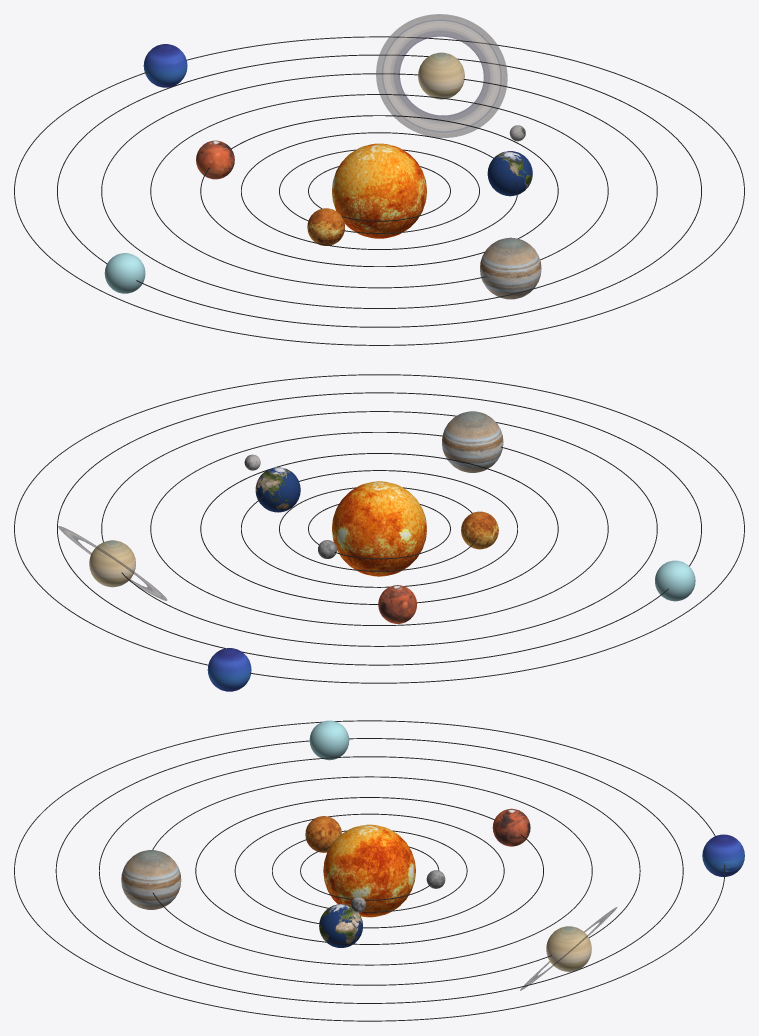
File: сонячнасистема.glb
3 views of the same model, one above another, from view 1: azimuth 30°, elevation 25°; view 2: azimuth 150°, elevation 25°; view 3: azimuth 270°, elevation 25° (orthographic). The views are drawn at different scales.
Parts seen in each view (by area): view 1: Mesh (7), Sphere, Sphere.006, BezierCircle.007, BezierCircle.006, BezierCircle.005, Sphere.007, Sphere.004, BezierCircle.004, Sphere.009, Sphere.008, Sphere.003 (+4 smaller); view 2: Sphere, Sphere.006, BezierCircle.007, BezierCircle.006, BezierCircle.005, Sphere.007, Sphere.004, BezierCircle.004, Sphere.009, Sphere.008, BezierCircle.003, Sphere.003 (+4 smaller); view 3: Sphere, Sphere.006, BezierCircle.007, BezierCircle.006, BezierCircle.005, Sphere.007, BezierCircle.004, Sphere.004, Sphere.009, Sphere.008, BezierCircle.003, Sphere.003 (+3 smaller).
Boxes of the visible parts, <box> form: Mesh (7): <box>376,14,507,137</box>; Sphere: <box>332,143,426,238</box>; Sphere.006: <box>480,237,541,299</box>; BezierCircle.007: <box>14,36,744,345</box>; BezierCircle.006: <box>57,54,701,327</box>; BezierCircle.005: <box>101,73,657,308</box>; Sphere.007: <box>418,52,464,99</box>; Sphere.004: <box>487,151,532,196</box>; BezierCircle.004: <box>150,94,608,288</box>; Sphere.009: <box>143,44,187,87</box>; Sphere.008: <box>104,253,145,293</box>; Sphere.003: <box>196,140,234,179</box>; Sphere: <box>332,481,426,576</box>; Sphere.006: <box>442,411,503,472</box>; BezierCircle.007: <box>14,374,744,683</box>; BezierCircle.006: <box>57,392,701,665</box>; BezierCircle.005: <box>101,411,657,646</box>; Sphere.007: <box>89,540,135,587</box>; Sphere.004: <box>255,467,300,512</box>; BezierCircle.004: <box>150,432,608,625</box>; Sphere.009: <box>207,648,251,691</box>; Sphere.008: <box>655,560,695,601</box>; BezierCircle.003: <box>200,453,558,604</box>; Sphere.003: <box>378,585,416,623</box>; Sphere: <box>323,824,415,917</box>; Sphere.006: <box>121,850,181,909</box>; BezierCircle.007: <box>14,720,725,1021</box>; BezierCircle.006: <box>55,738,683,1003</box>; BezierCircle.005: <box>99,756,640,985</box>; Sphere.007: <box>546,926,591,971</box>; BezierCircle.004: <box>152,776,592,965</box>; Sphere.004: <box>319,904,362,947</box>; Sphere.009: <box>702,834,744,876</box>; Sphere.008: <box>309,720,349,760</box>; BezierCircle.003: <box>195,797,543,944</box>; Sphere.003: <box>492,808,530,846</box>.
Bounding box in the file's own units: 15.34 × 2 × 15.76.
Materials: 19 (11 with a texture image).
